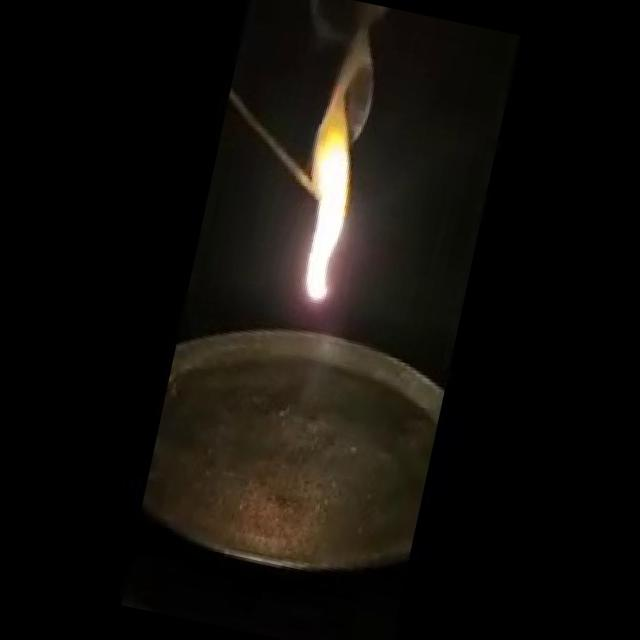Fire: (274, 63, 388, 308)
